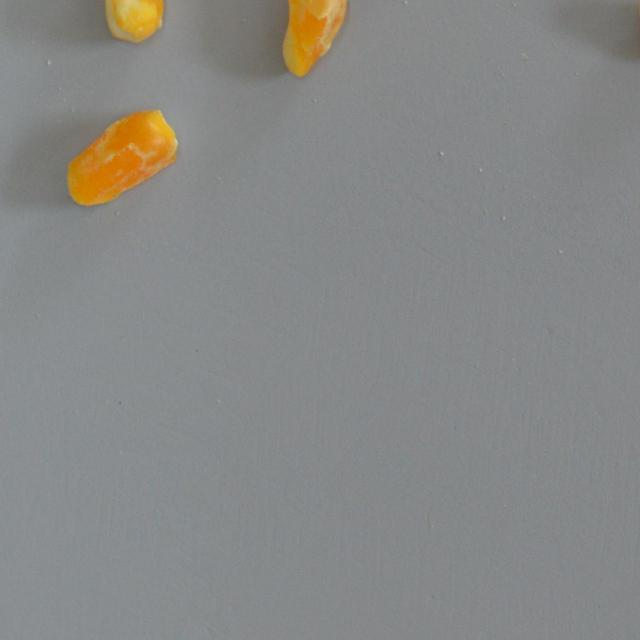pelicula: (62, 103, 180, 210), (272, 0, 350, 81), (98, 0, 170, 43)
